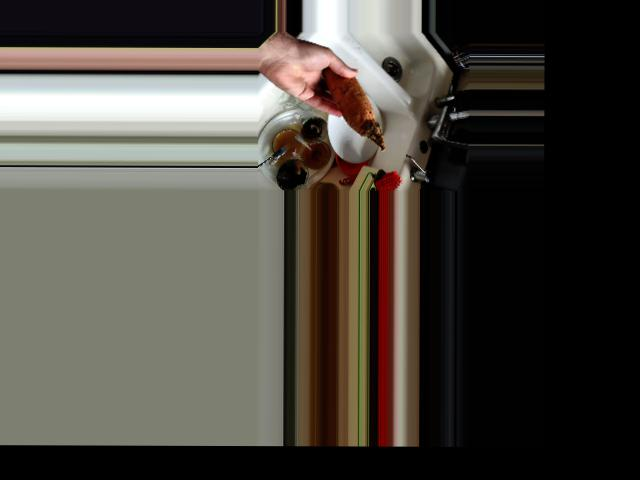sweet_potato: (317, 60, 386, 152)
